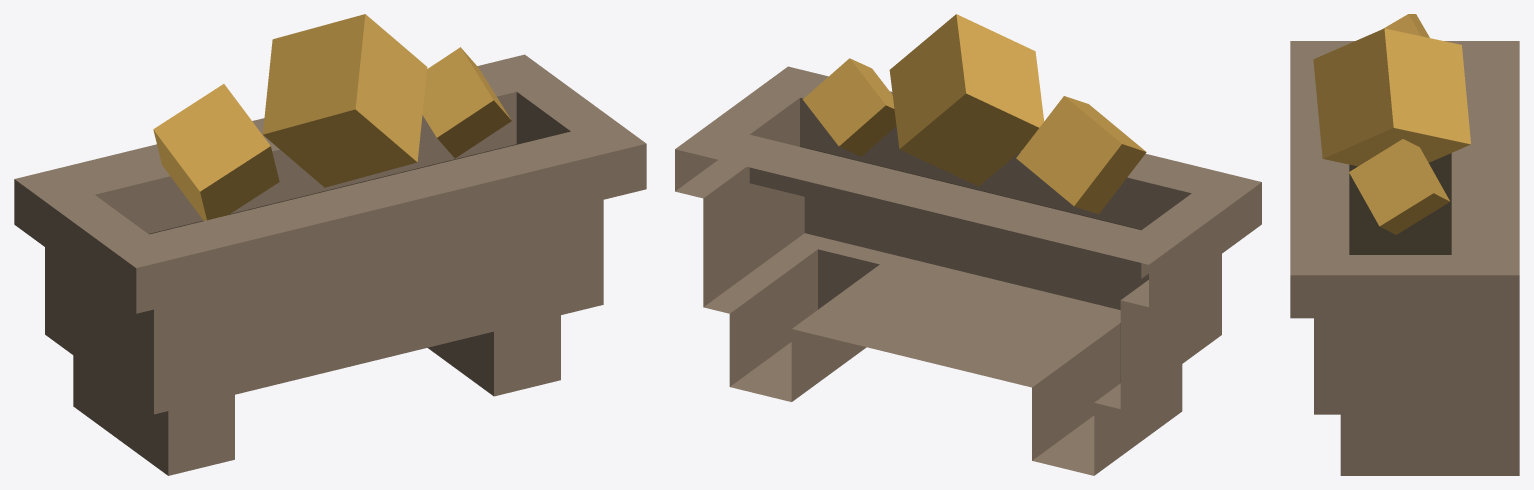
File: SM_Prop_Planter_01.fbx
3 views of the same model, side by side, from view 1: azimuth 30°, elevation 25°; view 2: azimuth 150°, elevation 25°; view 3: azimuth 270°, elevation 25° (orthographic). The views are drawn at different scales.
Parts seen in each view (by area): view 1: SM_Prop_Planter_01; view 2: SM_Prop_Planter_01; view 3: SM_Prop_Planter_01.
Part boxes in pixels (box(x1,y1,x2,y2)): SM_Prop_Planter_01: box(14, 14, 646, 475); SM_Prop_Planter_01: box(675, 14, 1261, 475); SM_Prop_Planter_01: box(1290, 14, 1519, 475).
Bounding box in the file's own units: 22.76 × 16.68 × 9.41.
